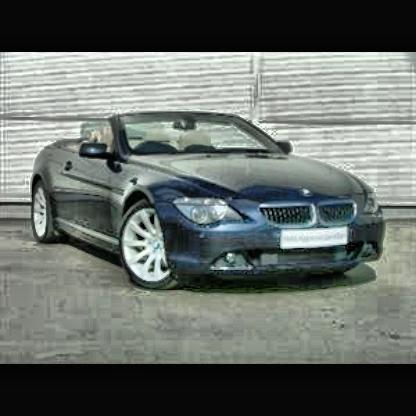BMW 6 Series Convertible 2007: (31, 116, 387, 287)
